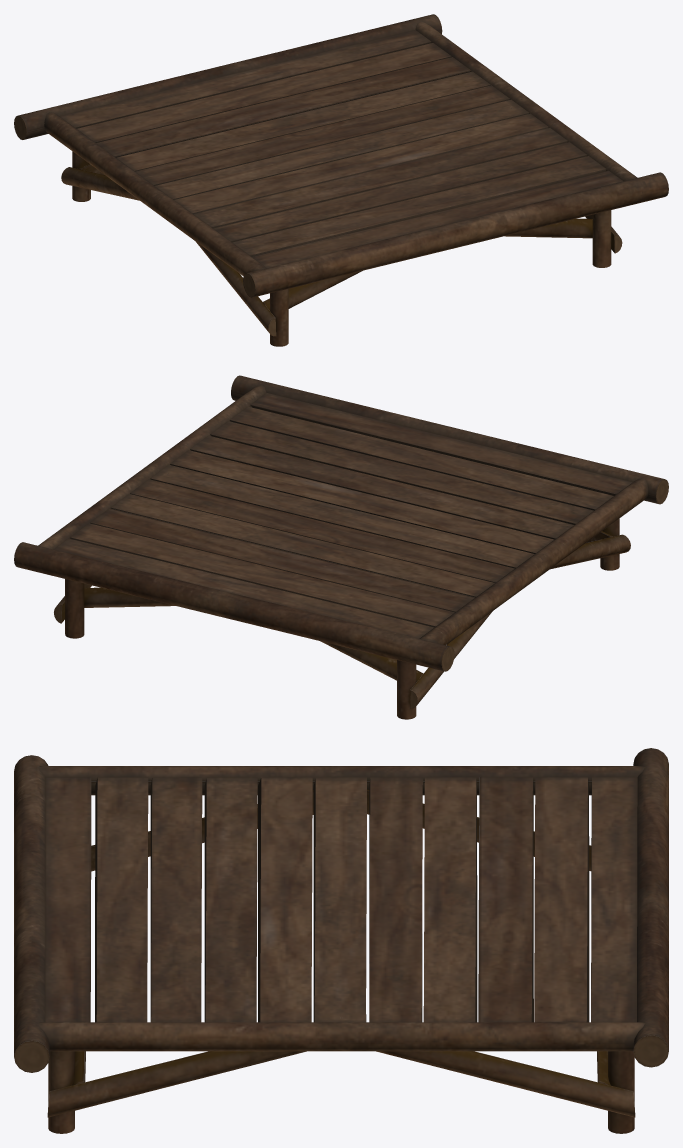
The model's file is low_wooden_bench.glb.
The picture shows the model from 3 angles, top to bottom: view 1: azimuth 30°, elevation 25°; view 2: azimuth 150°, elevation 25°; view 3: azimuth 270°, elevation 25°; orthographic projection. The views are drawn at different scales.
Visible parts, largest first — view 1: SM_Low_Wooden_Bench_M_Low_Wooden_Bench_0; view 2: SM_Low_Wooden_Bench_M_Low_Wooden_Bench_0; view 3: SM_Low_Wooden_Bench_M_Low_Wooden_Bench_0.
Boxes of the visible parts, x1,y1,x2,y2 form: SM_Low_Wooden_Bench_M_Low_Wooden_Bench_0: (14, 14, 668, 346); SM_Low_Wooden_Bench_M_Low_Wooden_Bench_0: (14, 375, 668, 719); SM_Low_Wooden_Bench_M_Low_Wooden_Bench_0: (14, 748, 668, 1133).
Size of the model in its own units: 2.39 by 0.4654 by 2.26.
1 material, 1 textured.
